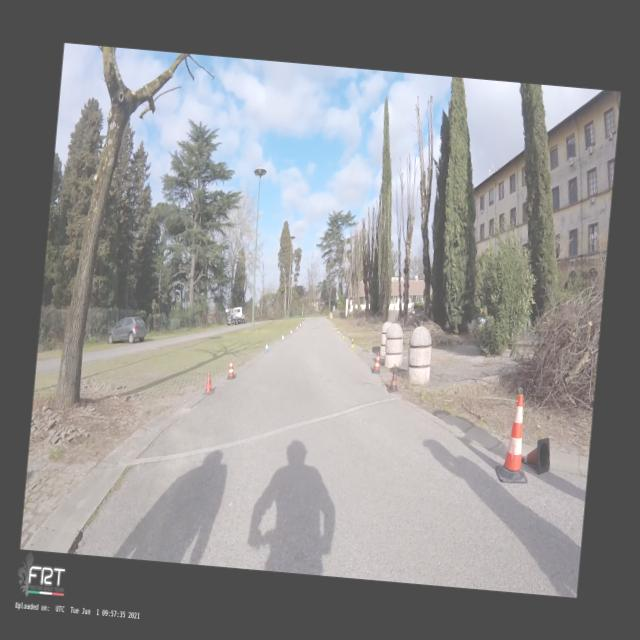blue_cone: (264, 342, 270, 353)
large_orange_cone: (494, 392, 534, 484), (371, 351, 382, 373), (226, 358, 237, 380)
unknown_cone: (520, 436, 552, 476), (386, 366, 402, 394), (202, 372, 216, 394)
yellow_cone: (350, 338, 354, 348)
